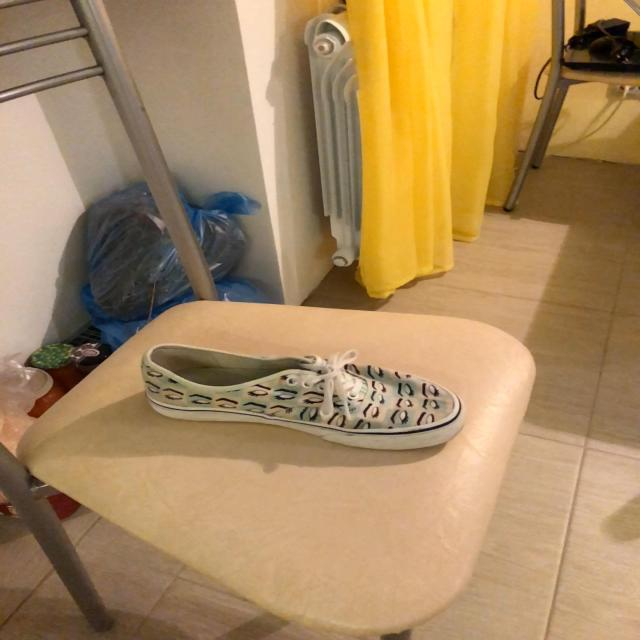shoe: (142, 347, 464, 459)
